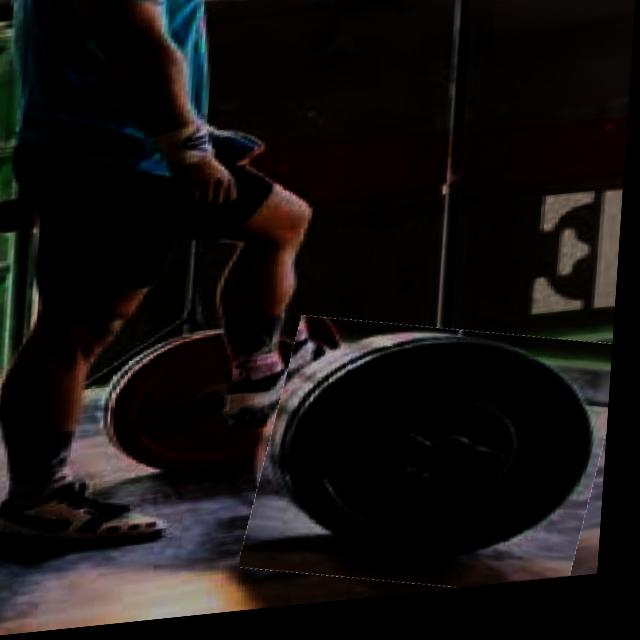barbell: (256, 313, 622, 617)
